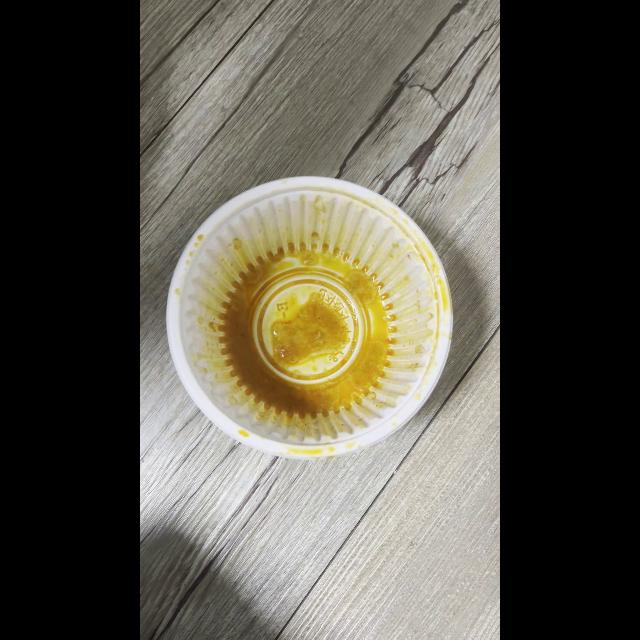dirty: (170, 198, 454, 460)
